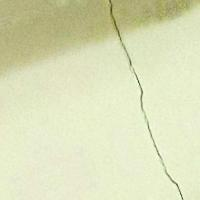crack: (98, 1, 191, 199)
